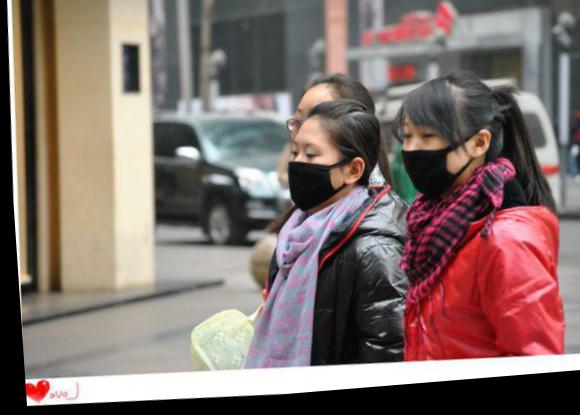OK: (281, 140, 341, 218)
WRONG: (394, 122, 467, 203)
